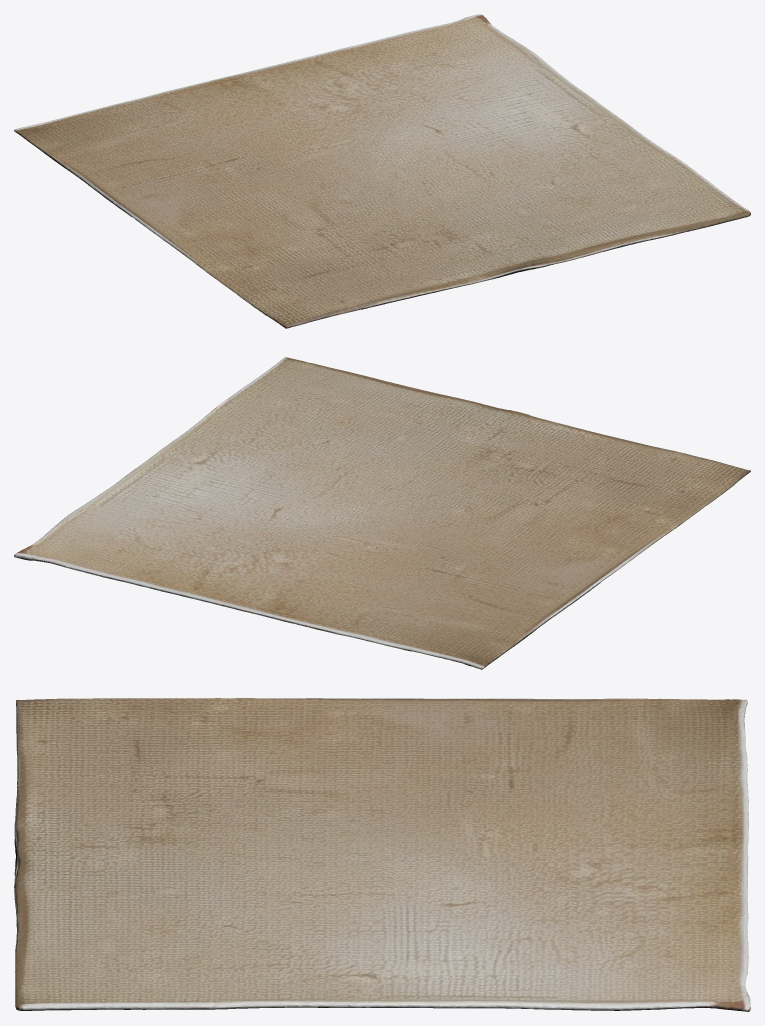
File: ast_4a6964d61395.glb
3 views of the same model, one above another, from view 1: azimuth 30°, elevation 25°; view 2: azimuth 150°, elevation 25°; view 3: azimuth 270°, elevation 25° (orthographic). The views are drawn at different scales.
Parts seen in each view (by area): view 1: geometry_0; view 2: geometry_0; view 3: geometry_0.
Boxes of the visible parts, x1,y1,x2,y2 form: geometry_0: (14, 14, 750, 328); geometry_0: (14, 357, 750, 669); geometry_0: (14, 698, 750, 1011).
Bounding box in the file's own units: 0.998 × 0.0111 × 1.
1 material, 1 textured.
